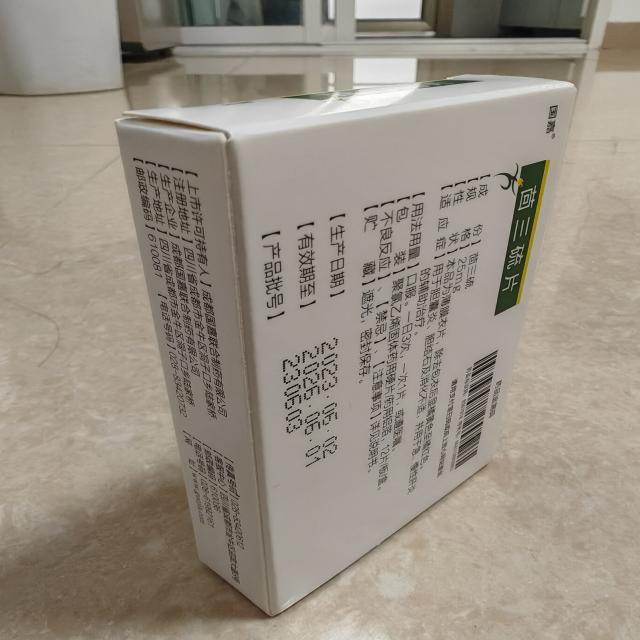box: (110, 67, 586, 623)
